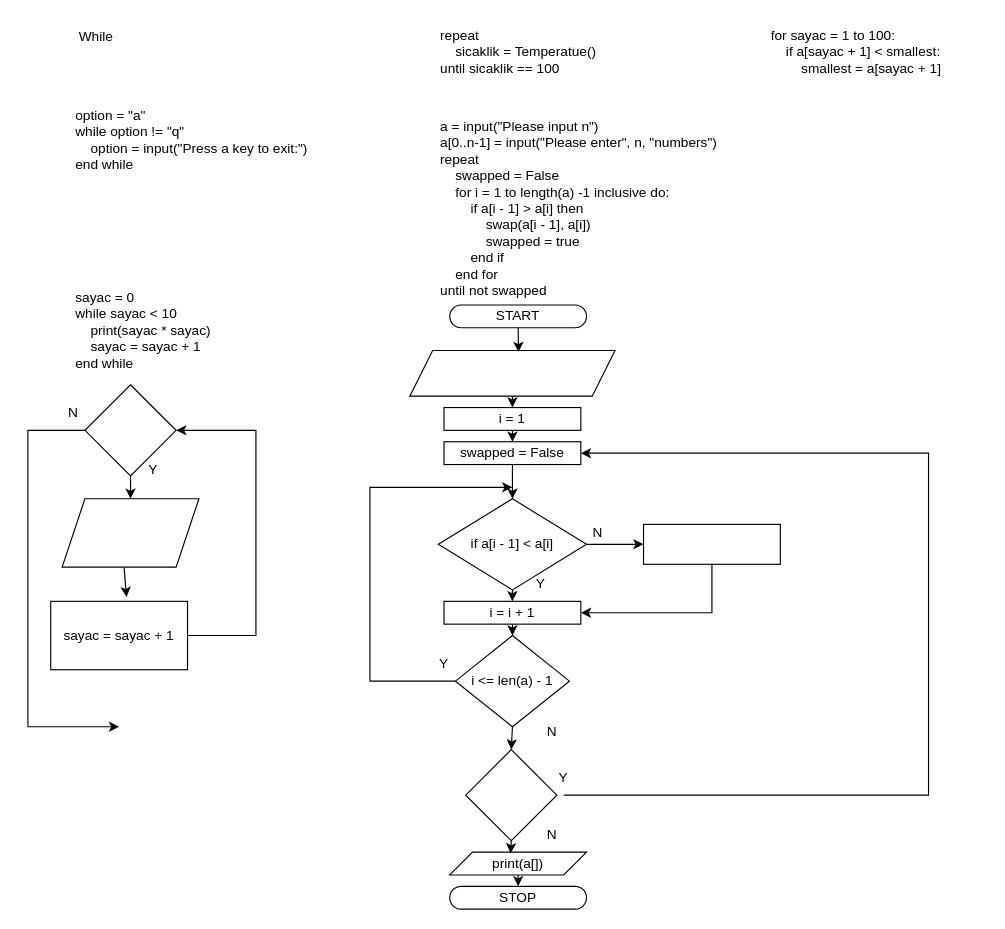
This 1005x929 diagram has some shape labels left out. The box of each missing label's shape, as (x1, y1, x2, y2) in pixels:
if swapped: (465, 748, 557, 841)
input n a[] = input n numbers: (409, 349, 615, 396)
print sayac^2: (61, 498, 199, 567)
sayac < 10: (84, 384, 176, 476)
swap(a[i - 1], a[i]) swapped = True: (642, 523, 780, 564)
